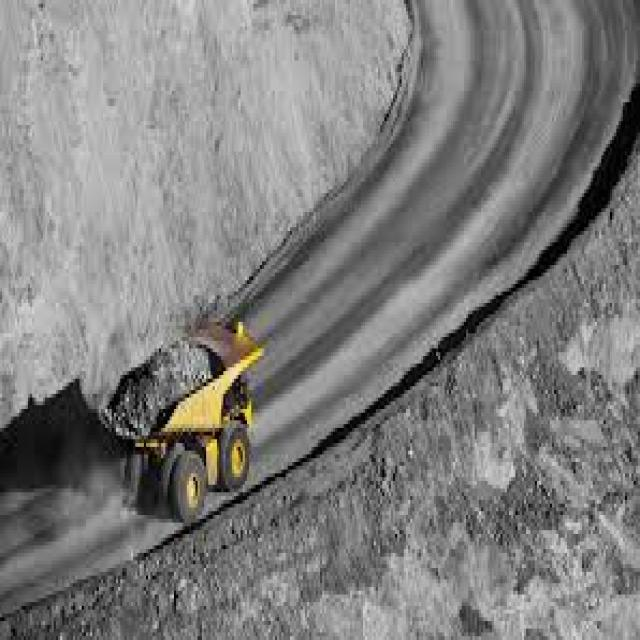dump_truck: (94, 303, 270, 530)
